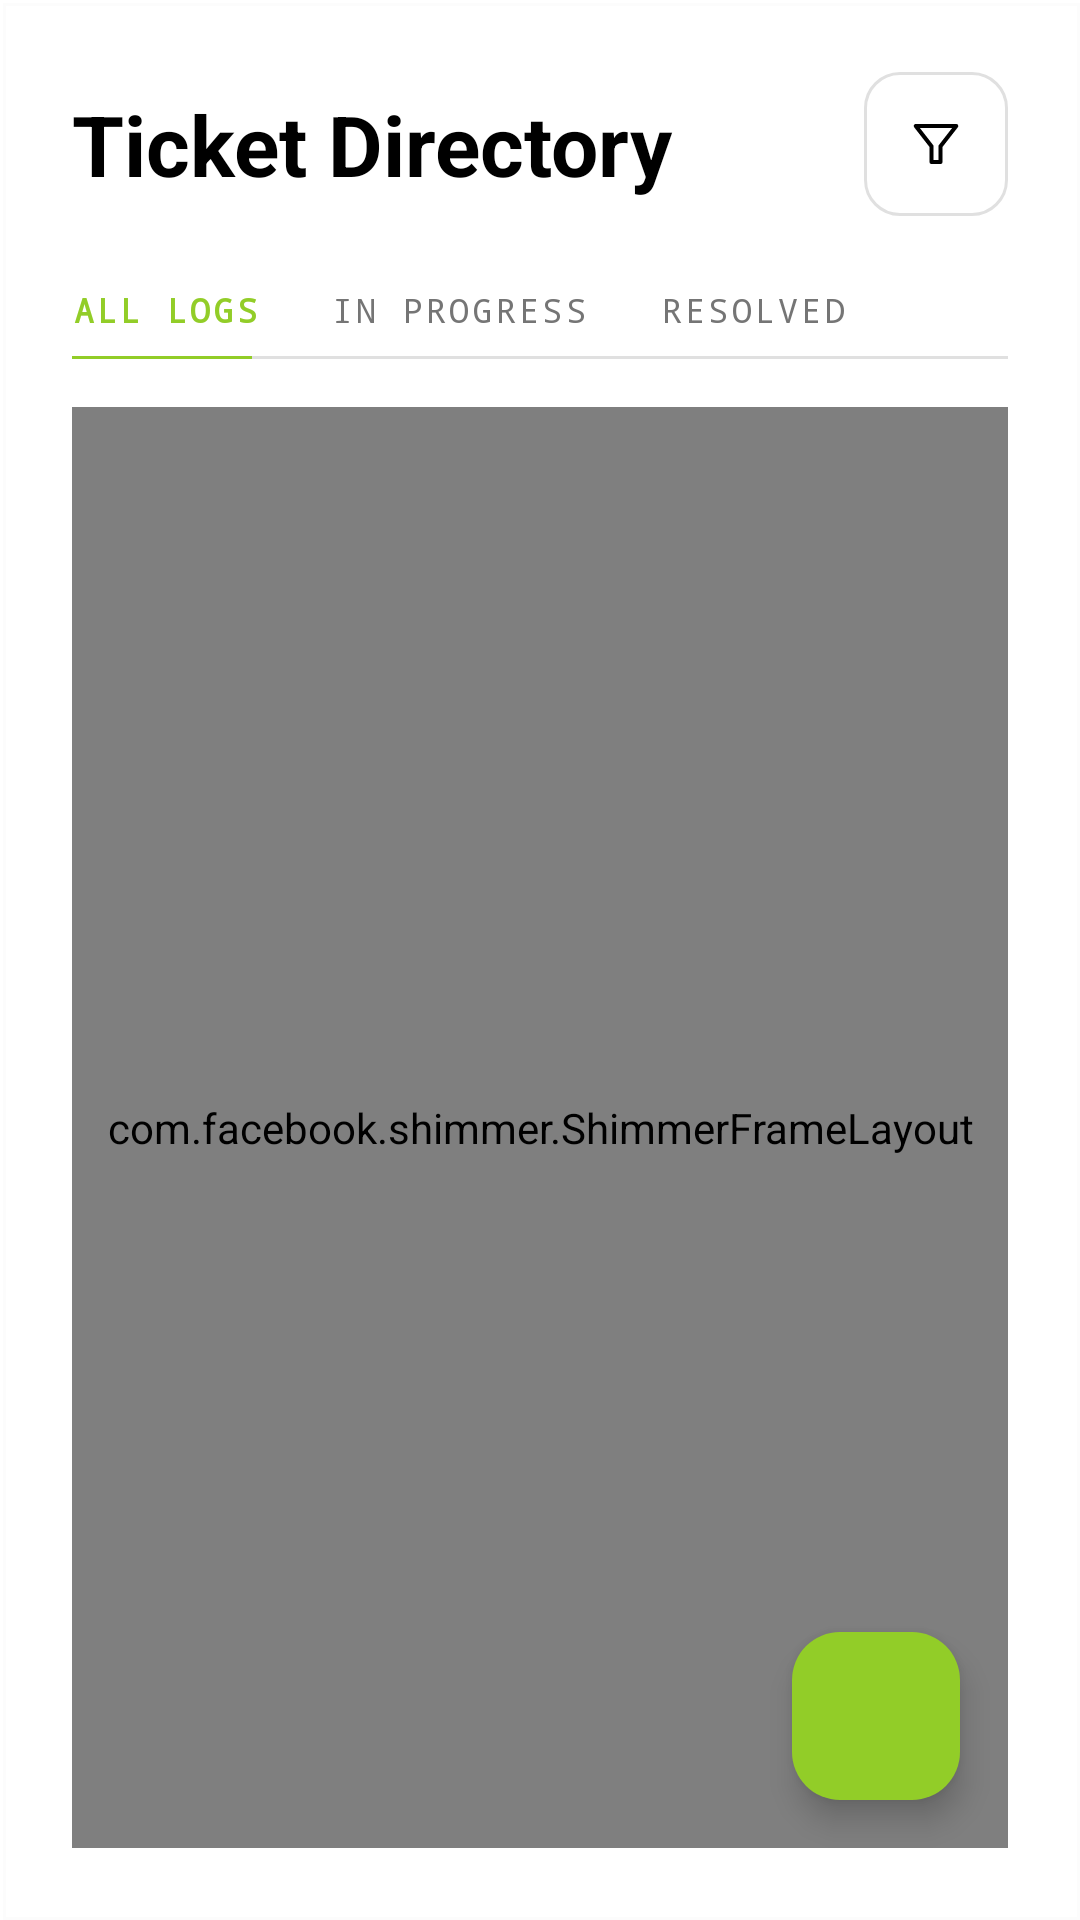

Where icons sit on this 1080 x 1920 app screen, as (x1, y1, x2, y2):
Filter: (864, 72, 1008, 216)
